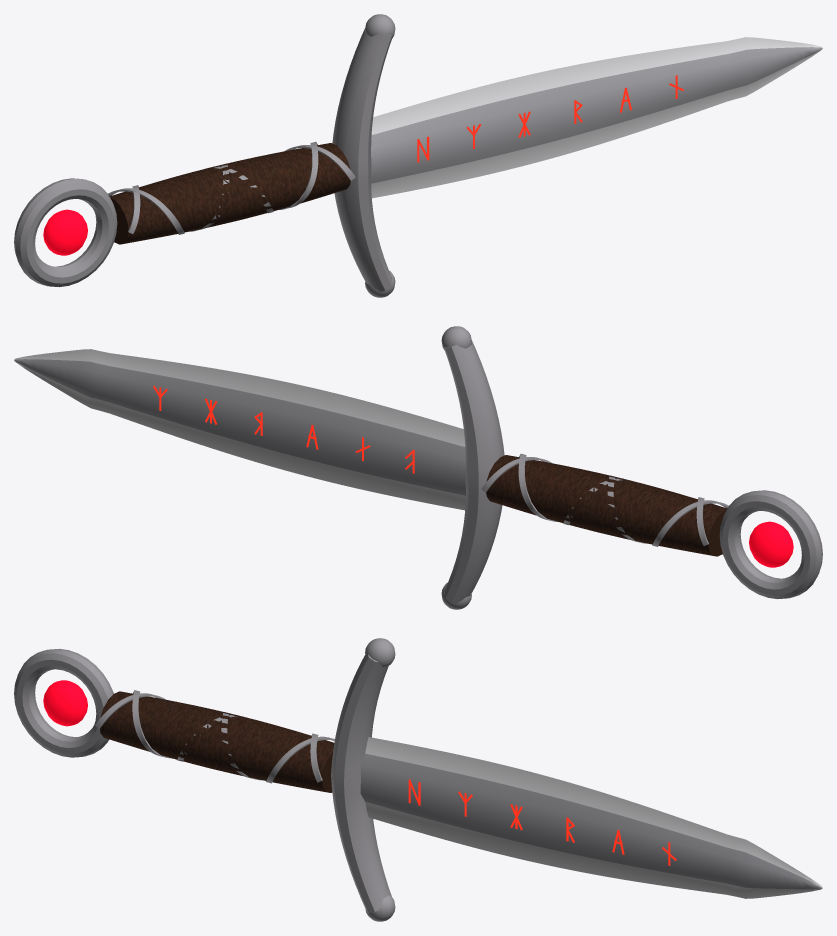
Rendered from adaga_mistica.glb.
3 views of the same model, one above another, from view 1: azimuth 30°, elevation 25°; view 2: azimuth 150°, elevation 25°; view 3: azimuth 330°, elevation 25° (orthographic).
Visible parts, largest first — view 1: AdagaMistica; view 2: AdagaMistica; view 3: AdagaMistica.
Boxes of the visible parts, bbox=[...] form: AdagaMistica: bbox=[14, 14, 822, 297]; AdagaMistica: bbox=[14, 326, 822, 609]; AdagaMistica: bbox=[14, 638, 822, 921].
Size of the model in its own units: 0.3338 by 0.111 by 0.025.
Materials: 6 (1 with a texture image).
